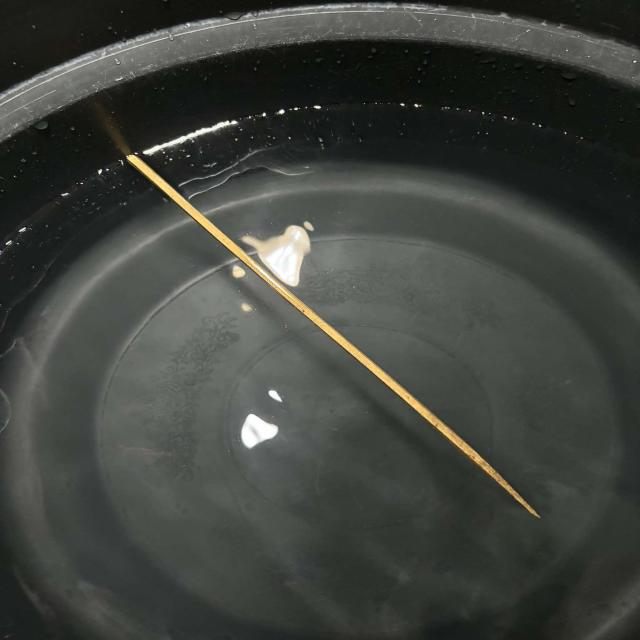Wood Stick: (95, 104, 539, 518)
